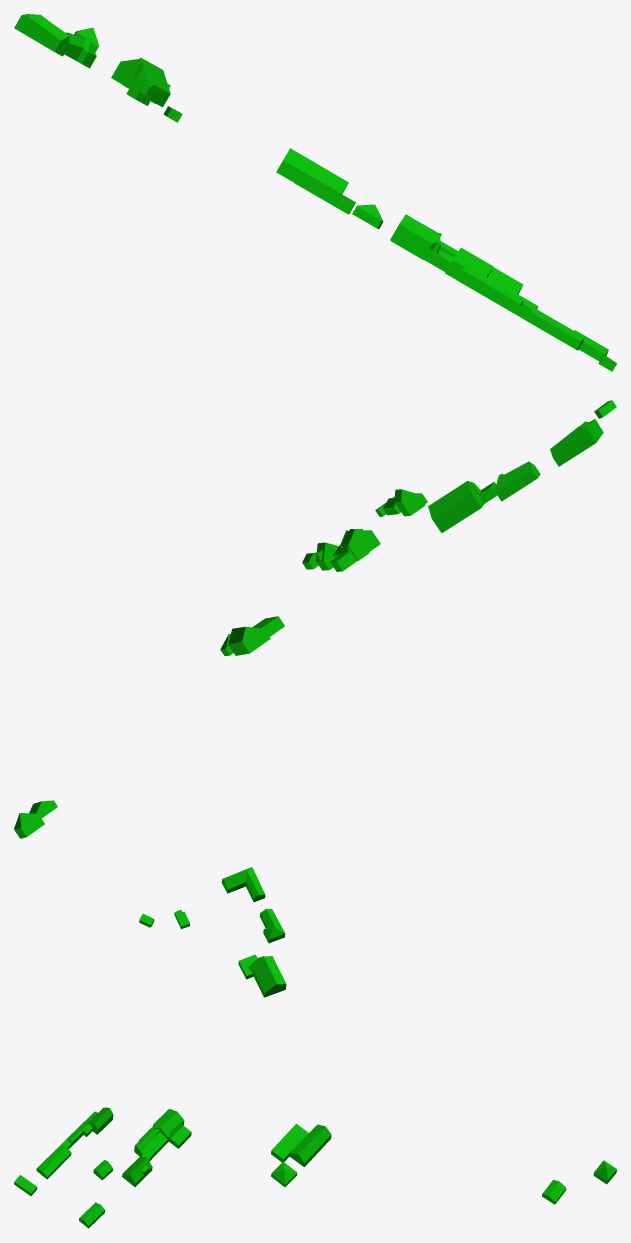
3 renders of one model, top to bottom at view 1: azimuth 30°, elevation 25°; view 2: azimuth 150°, elevation 25°; view 3: azimuth 270°, elevation 25°, orthographic. The views are drawn at different scales.
Parts seen in each view (by area): view 1: mesh; view 2: mesh; view 3: mesh.
Boxes of the visible parts, x1=… form: mesh: x1=14, y1=14, x2=616, y2=371; mesh: x1=14, y1=400, x2=616, y2=838; mesh: x1=14, y1=867, x2=616, y2=1228.
Bounding box in the file's own units: 136 × 102 × 246.
